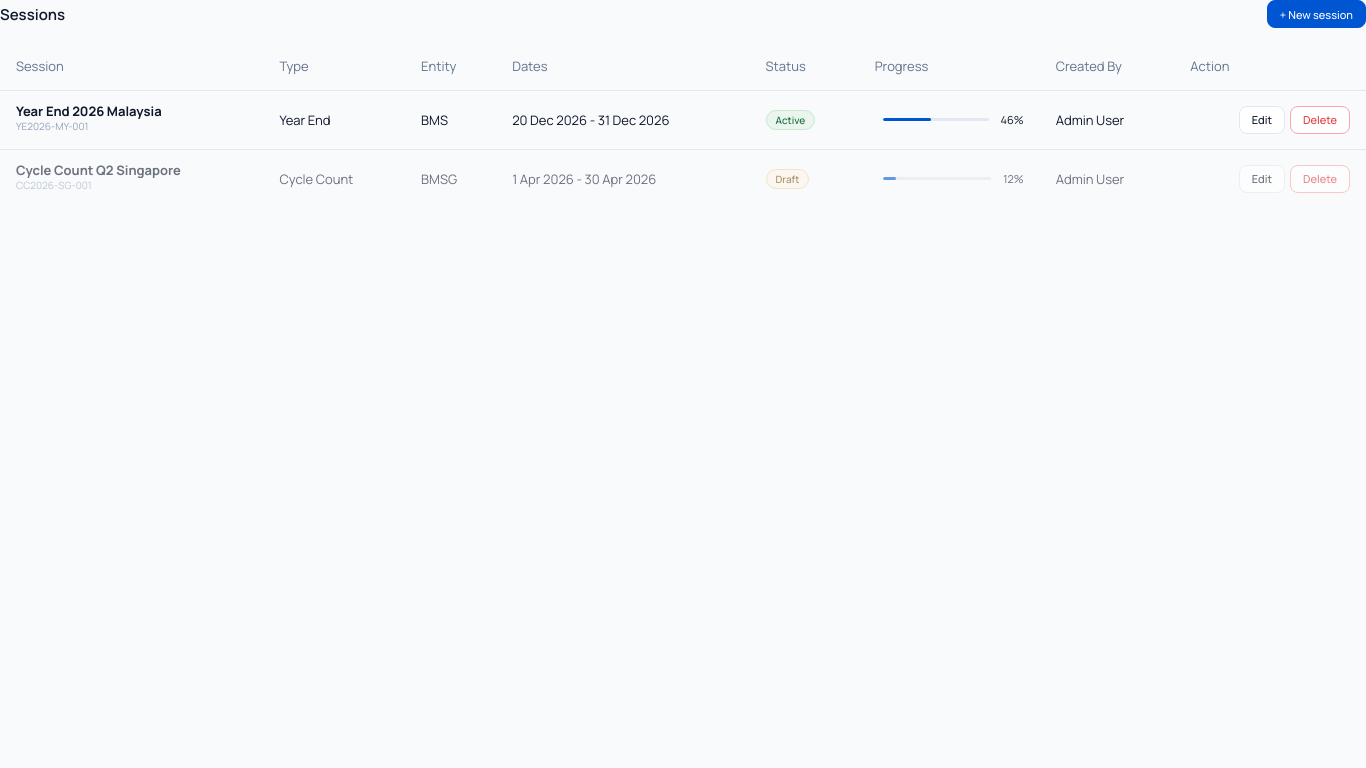
Scenario: AdminHomePage › creates a session from modal and shows it in the table
This screenshot has width=1366, height=768.
Expected: the text "Year End 2026 Malaysia" is shown, [16,102,162,119]
Click the button with aria-label "Create Session" at (1316, 14), box [1267,0,1365,28]
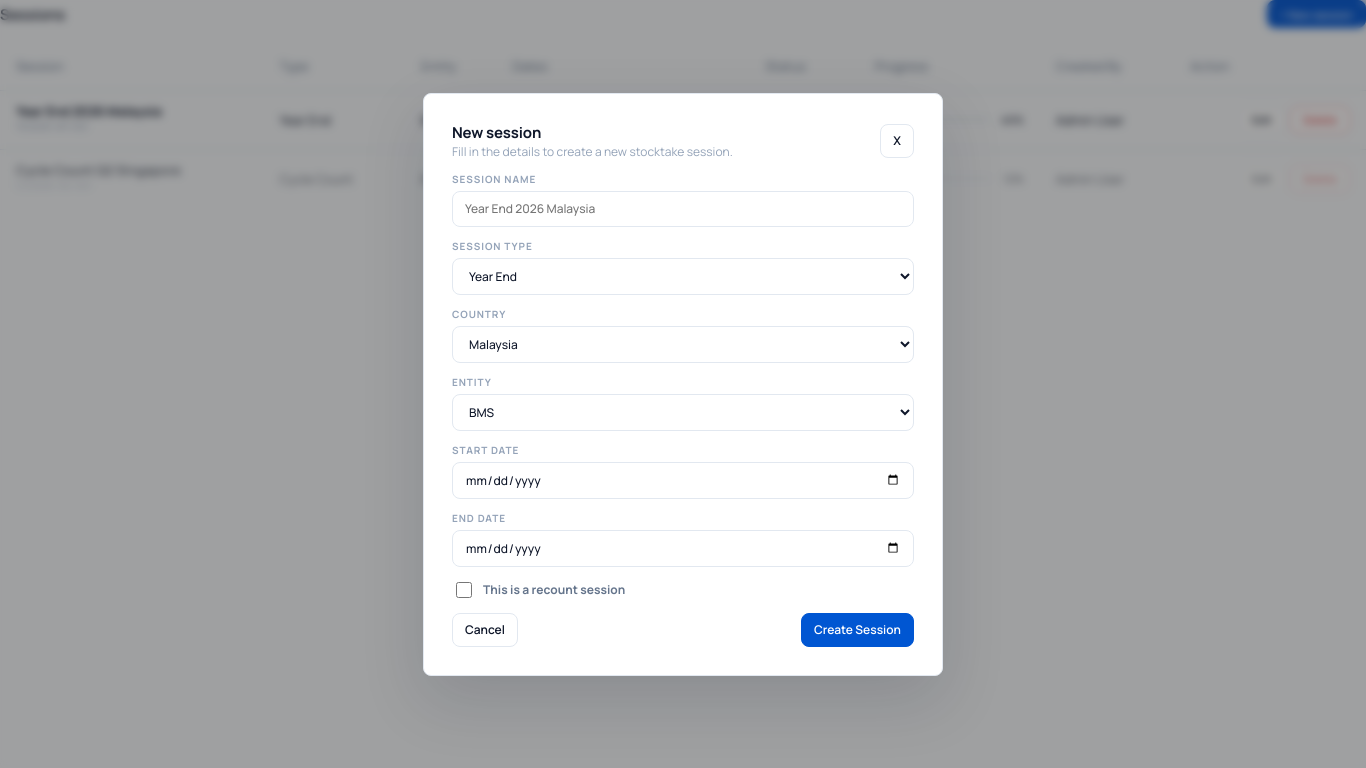
Type "Cycle Count Malaysia Test" into the field labelled "Session Name" at (683, 208), box [452,190,914,226]
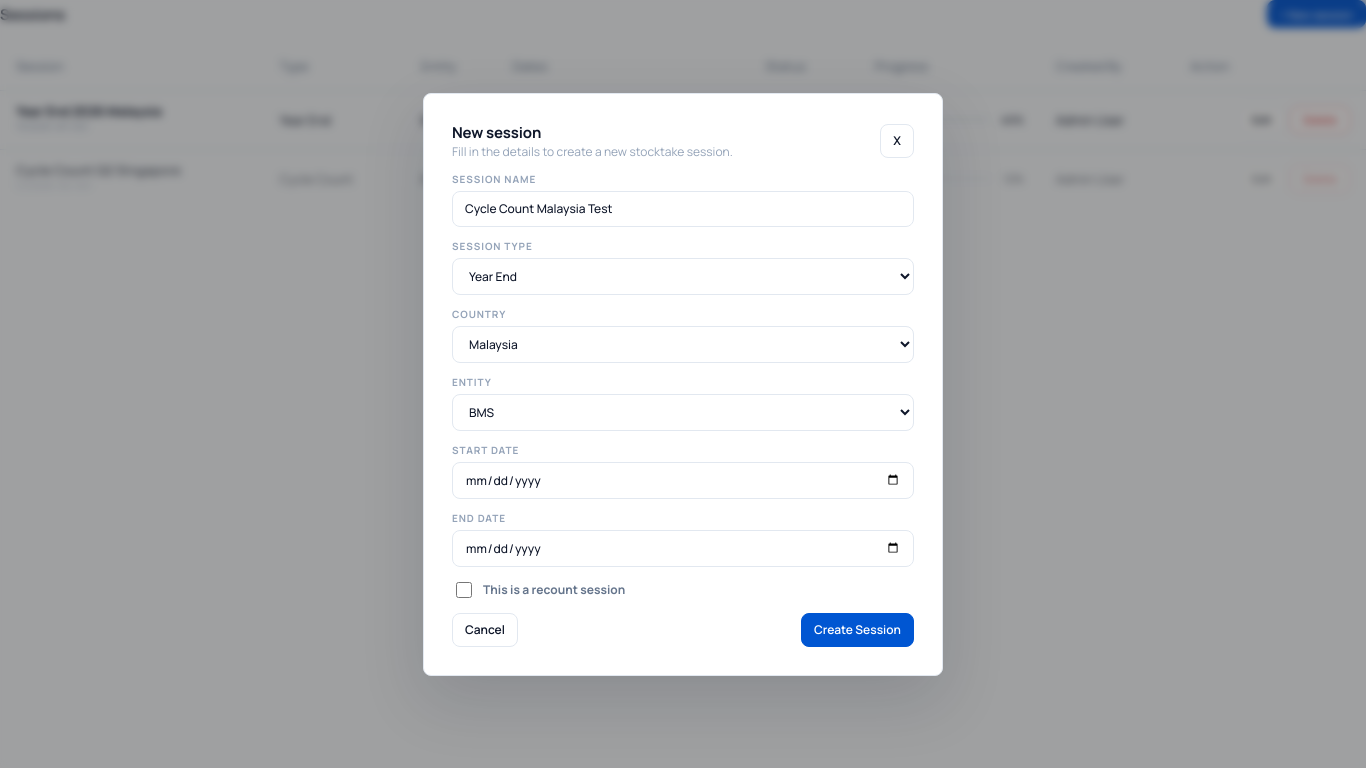
Type "2026-05-01" into the date field labelled "Start Date" at (683, 480), box [452,462,914,498]
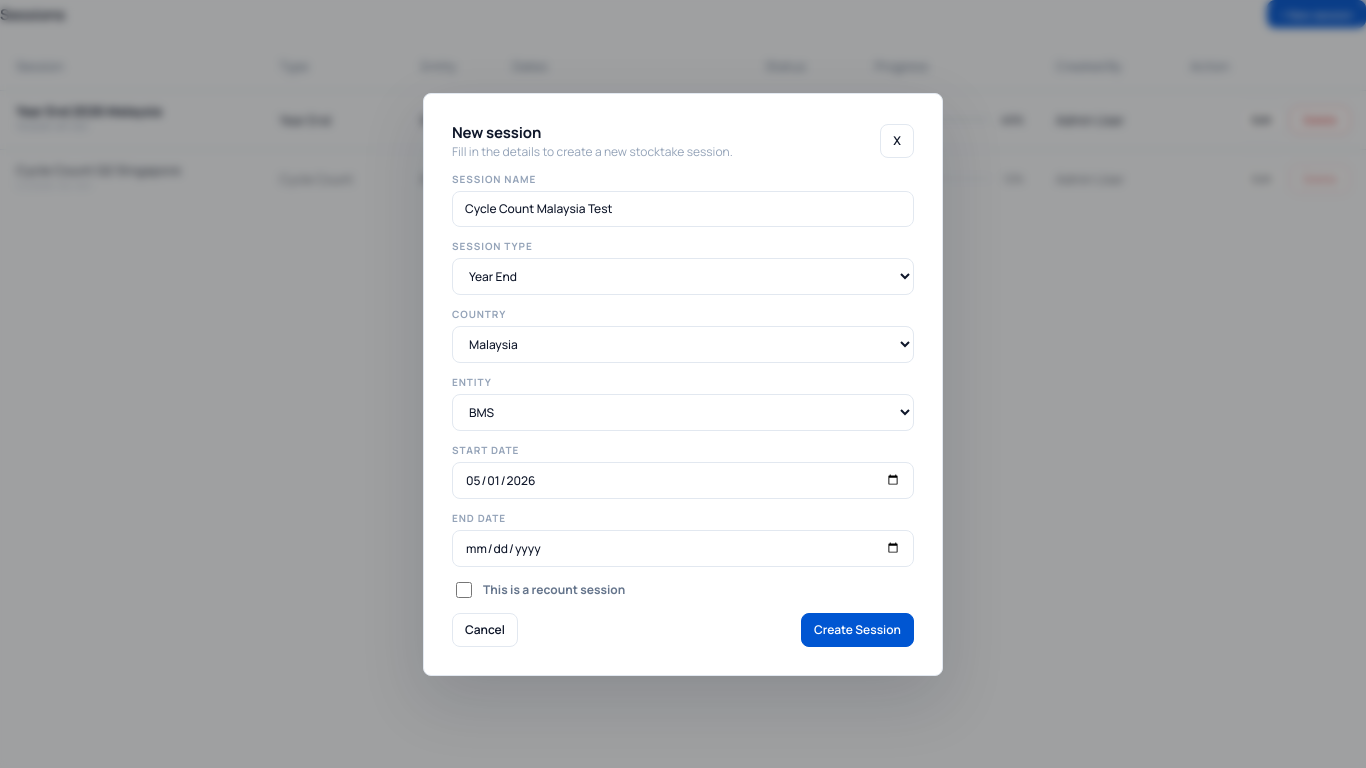
Type "2026-05-31" into the date field labelled "End Date" at (683, 548), box [452,530,914,566]
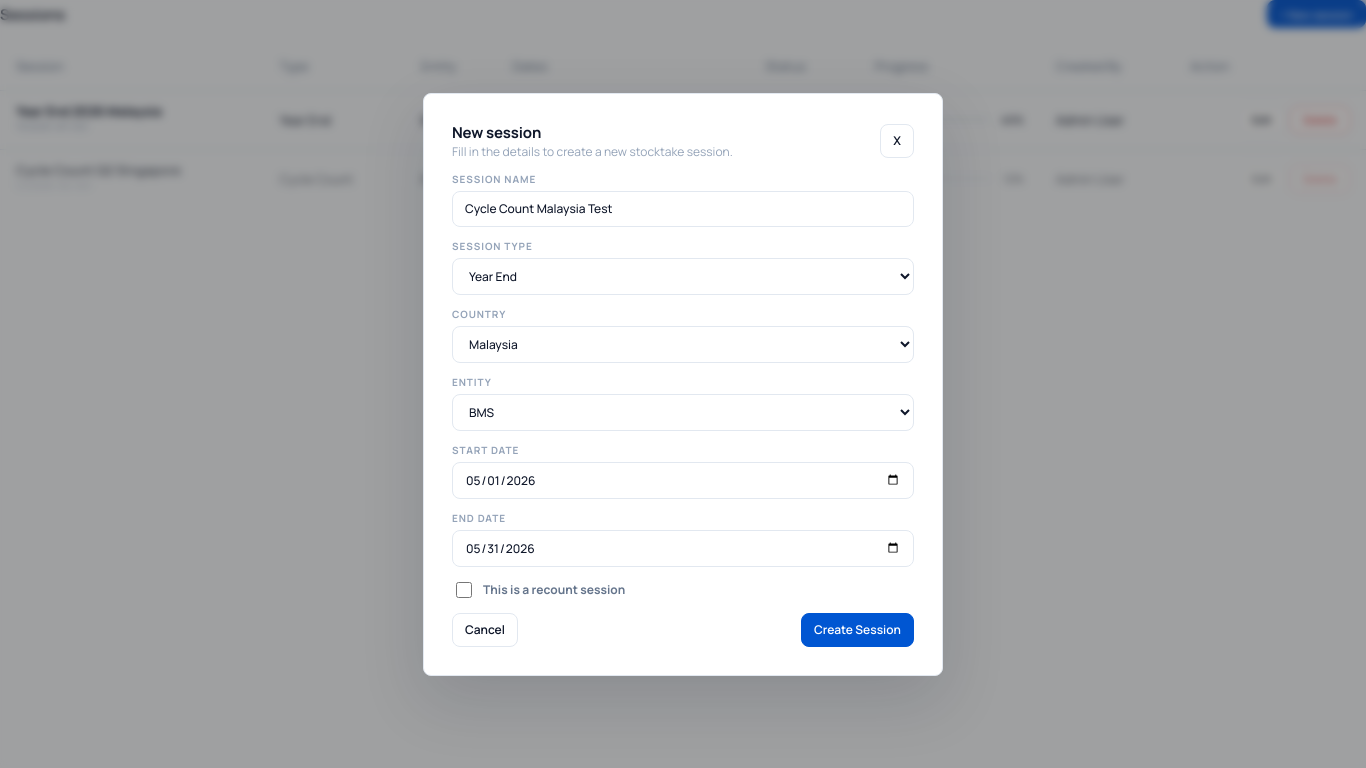
Click the button "Create Session" at (857, 630), box [801,612,914,646]
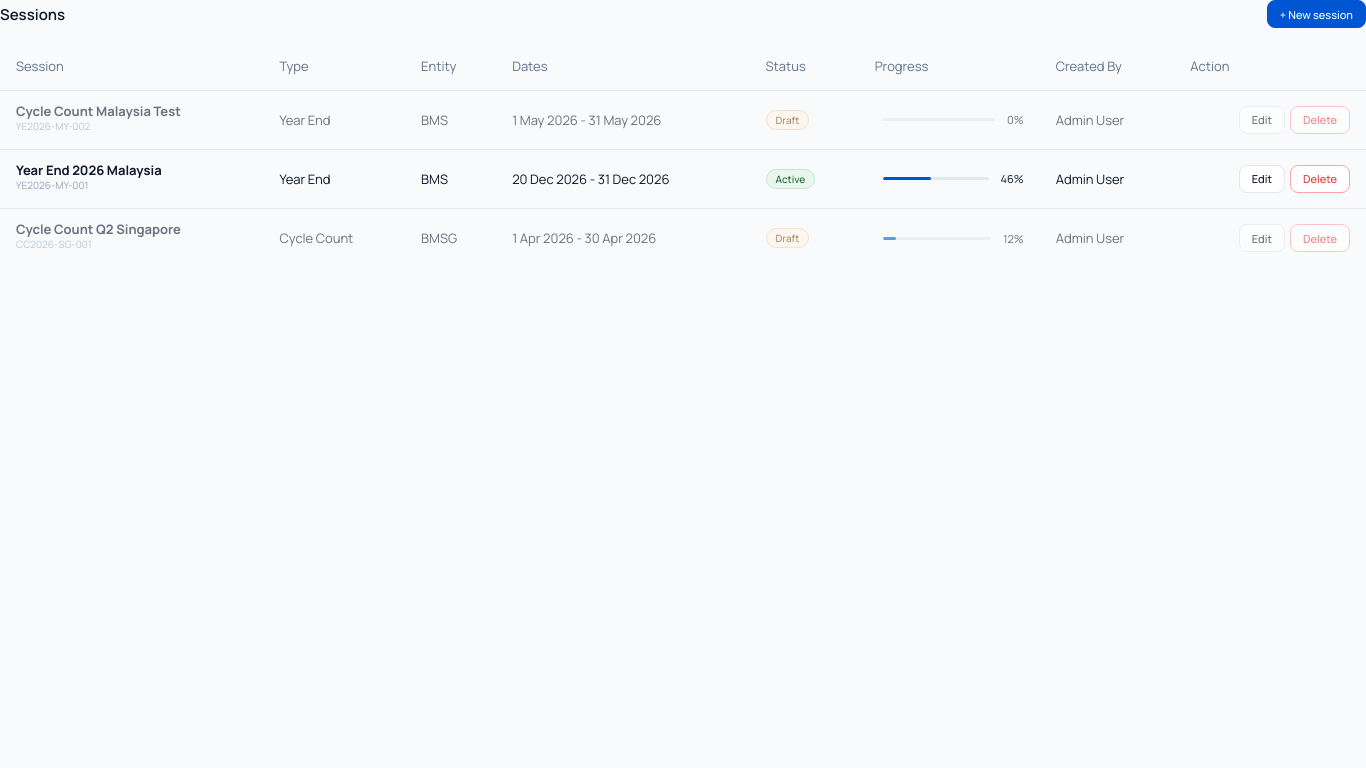
Expected: the text "Cycle Count Malaysia Test" is shown, [16,102,181,119]
